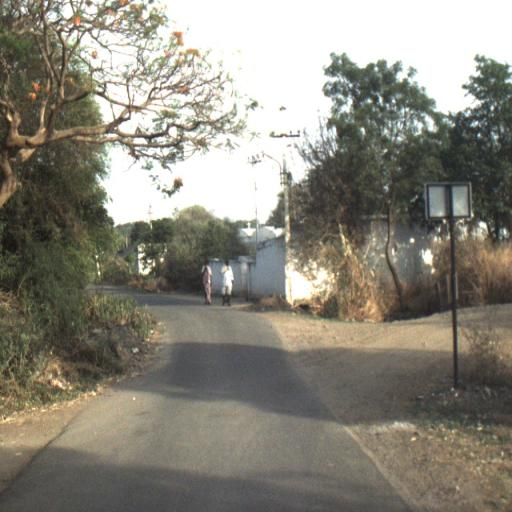street_light_0: (262, 150, 288, 188)
